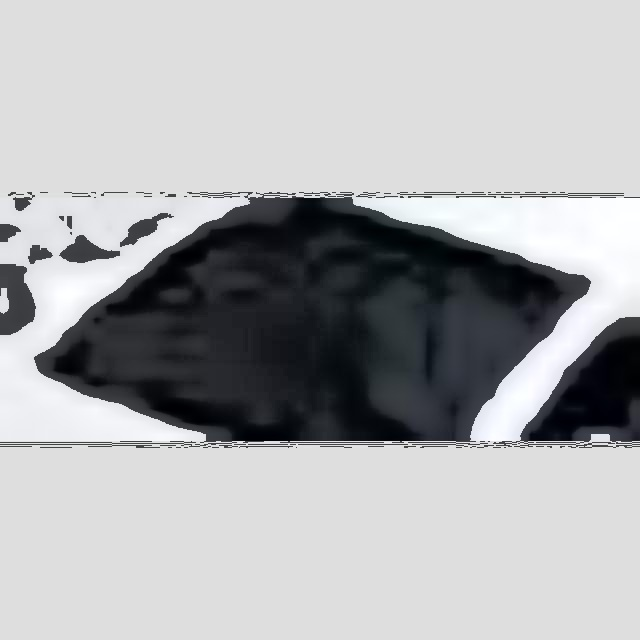pakai: (346, 262, 499, 416)
